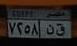2: (16, 21, 23, 36)
5: (24, 24, 31, 35)
7: (8, 21, 16, 34)
8: (31, 23, 38, 36)
noon: (45, 23, 54, 36)
qaaf: (55, 22, 66, 36)
